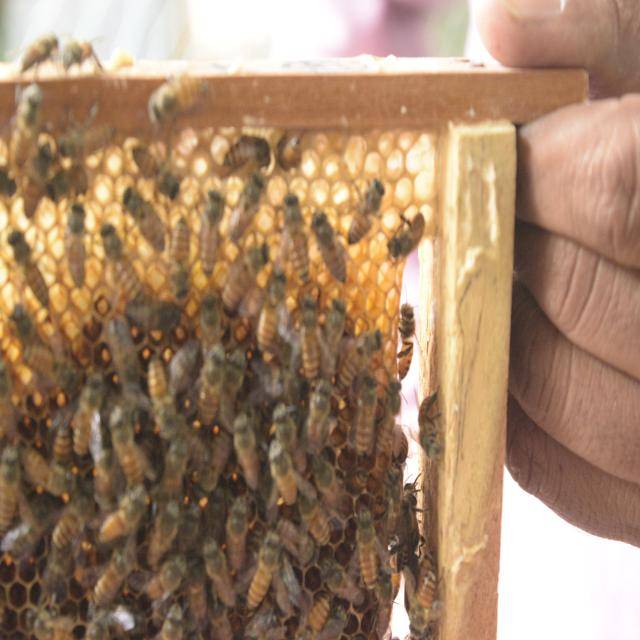honeybee: (144, 59, 215, 127), (7, 223, 52, 308), (222, 235, 273, 310), (279, 188, 321, 277), (128, 138, 186, 200), (6, 80, 45, 168), (345, 175, 391, 248), (390, 297, 426, 389), (142, 354, 180, 440), (58, 116, 120, 168), (384, 204, 435, 267), (120, 186, 167, 254), (17, 138, 53, 223), (313, 208, 352, 286), (103, 311, 143, 387), (293, 475, 331, 554), (99, 487, 149, 547), (100, 222, 142, 293), (28, 337, 78, 395), (90, 552, 136, 615), (68, 378, 104, 458), (199, 540, 240, 609), (399, 482, 431, 570), (339, 321, 383, 384), (246, 531, 281, 610), (200, 184, 231, 273), (256, 270, 289, 353), (403, 572, 443, 640), (54, 491, 96, 555), (13, 31, 62, 85), (410, 375, 443, 455), (111, 413, 146, 487), (230, 413, 262, 491), (166, 212, 194, 300), (22, 448, 78, 491), (196, 342, 225, 425), (62, 33, 111, 82), (146, 555, 186, 615), (65, 200, 93, 285), (222, 130, 271, 178), (3, 506, 48, 558), (0, 442, 24, 537), (353, 504, 375, 602), (303, 377, 329, 456), (25, 606, 83, 640), (268, 440, 298, 504), (322, 296, 346, 375), (354, 369, 376, 455), (145, 502, 180, 555), (298, 294, 320, 378), (309, 452, 340, 511), (380, 383, 404, 459), (277, 126, 311, 176), (225, 492, 250, 559), (296, 595, 333, 640), (390, 422, 413, 466), (345, 464, 370, 500)
